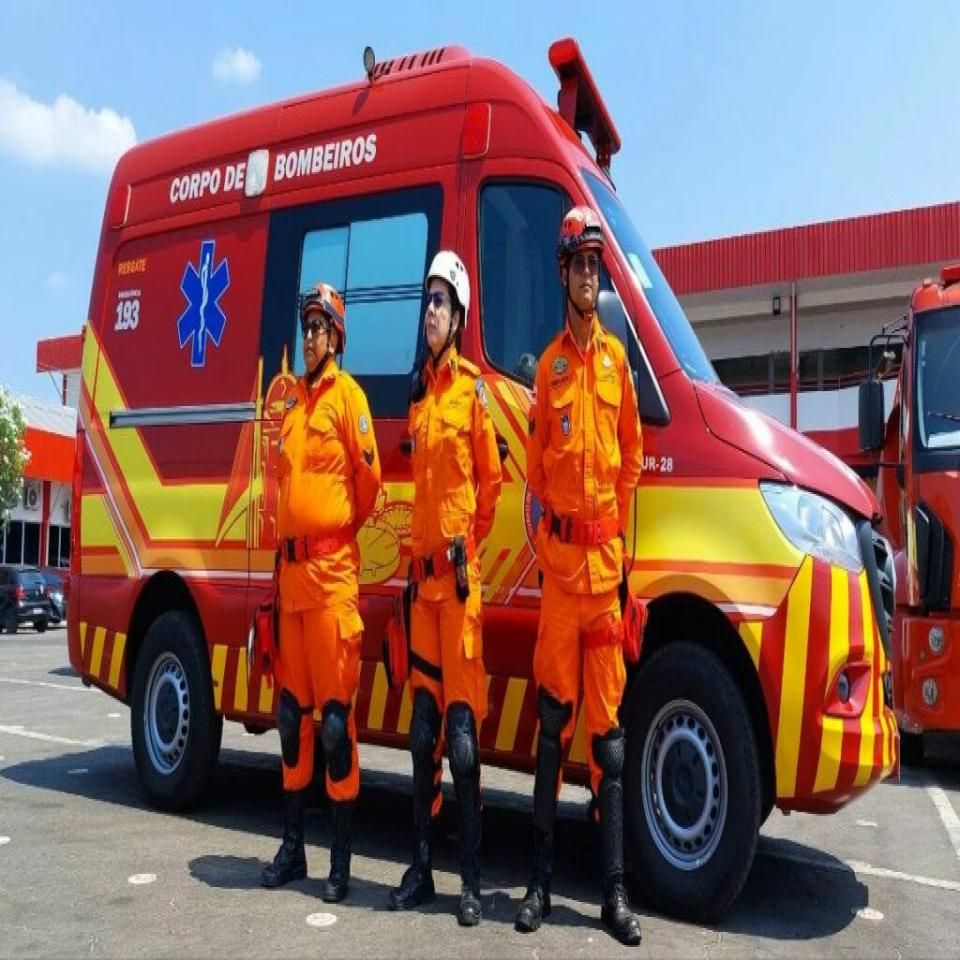viatura: (64, 36, 899, 927)
